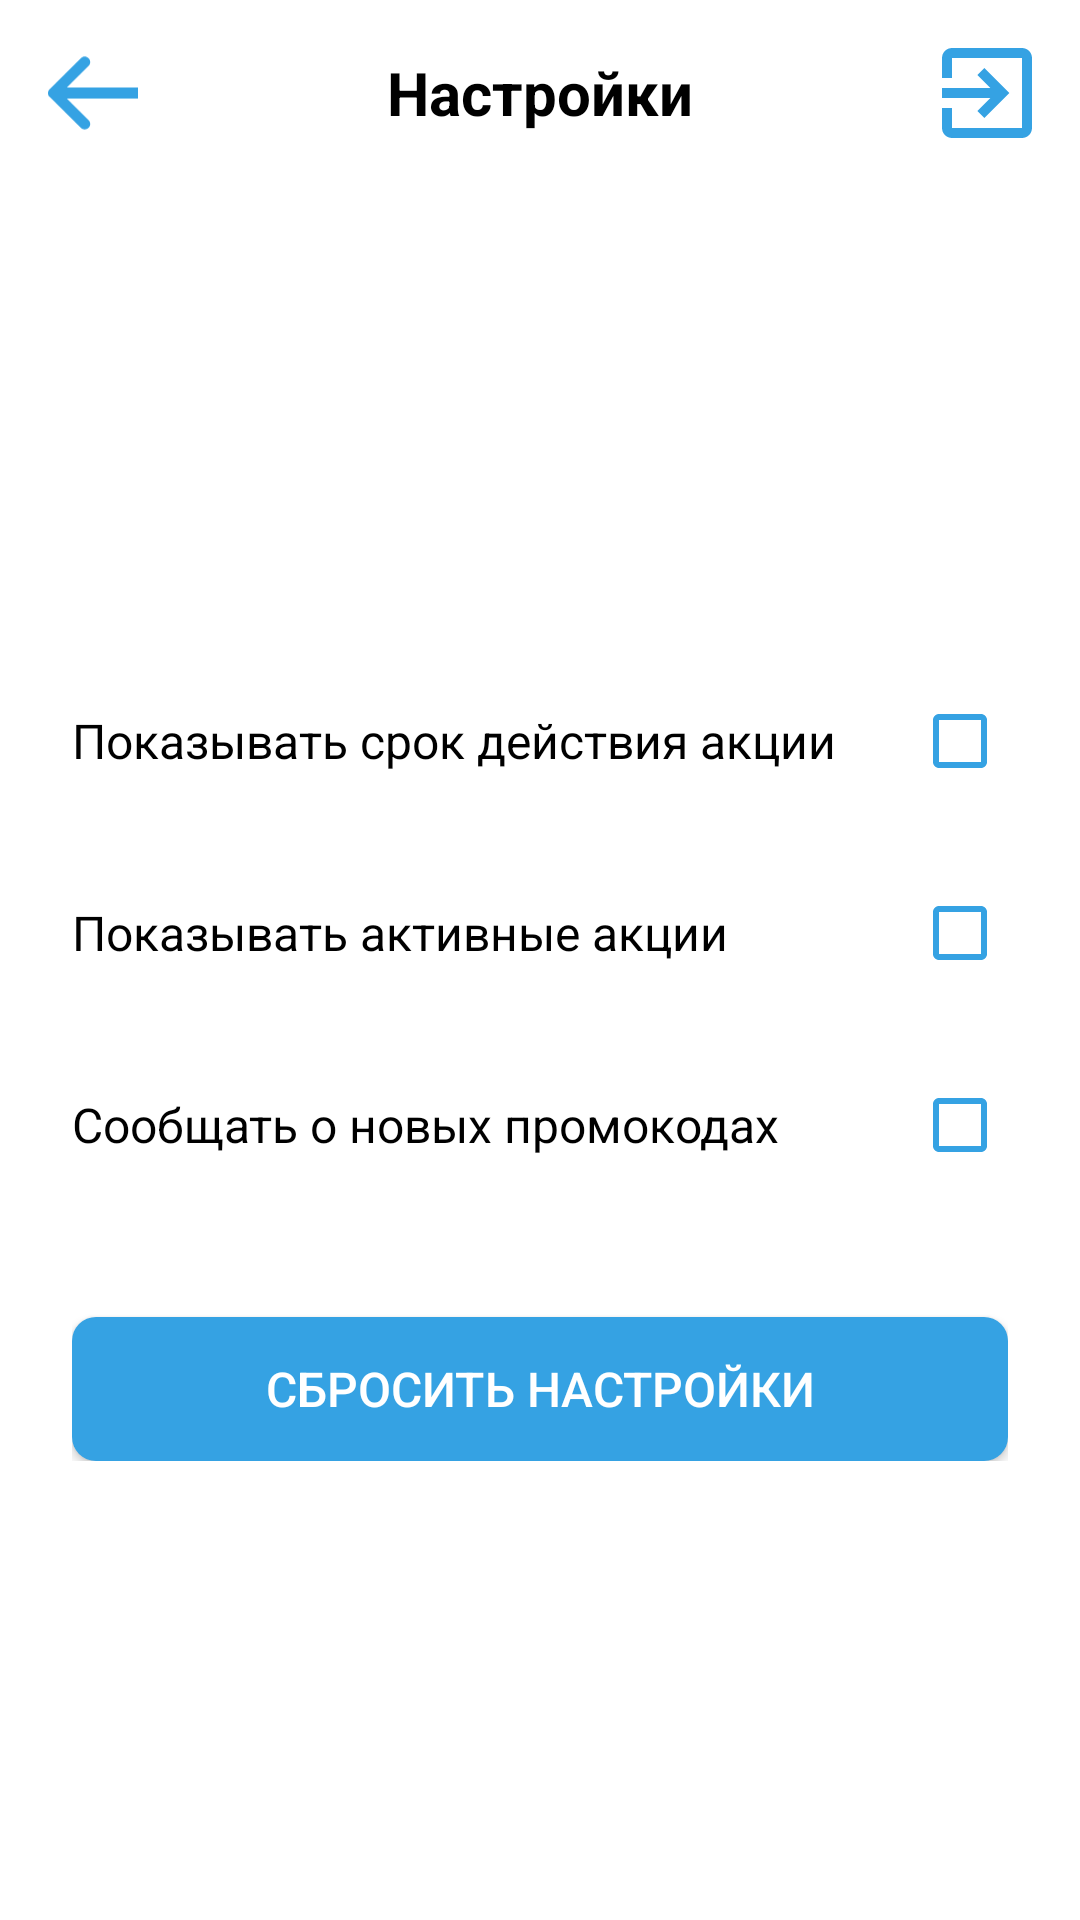

Point at icon controls on the screen. Image size 1080x1920, points as point (x, y).
back: point (93, 93)
